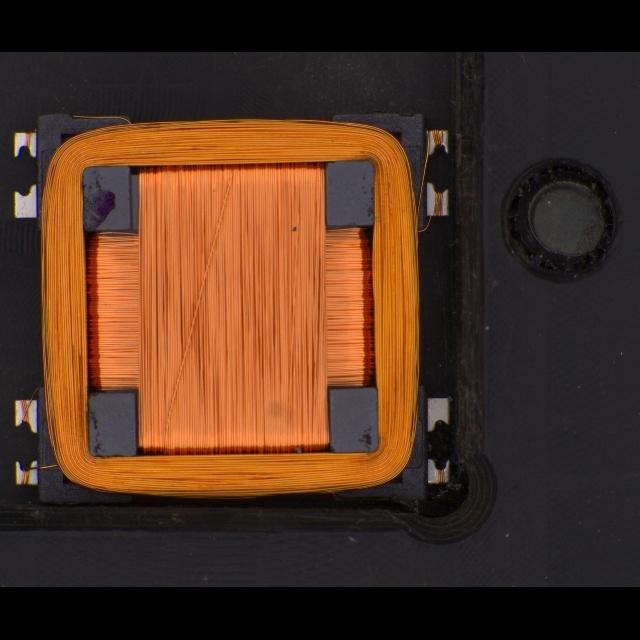Winding_Z: (37, 113, 423, 499)
